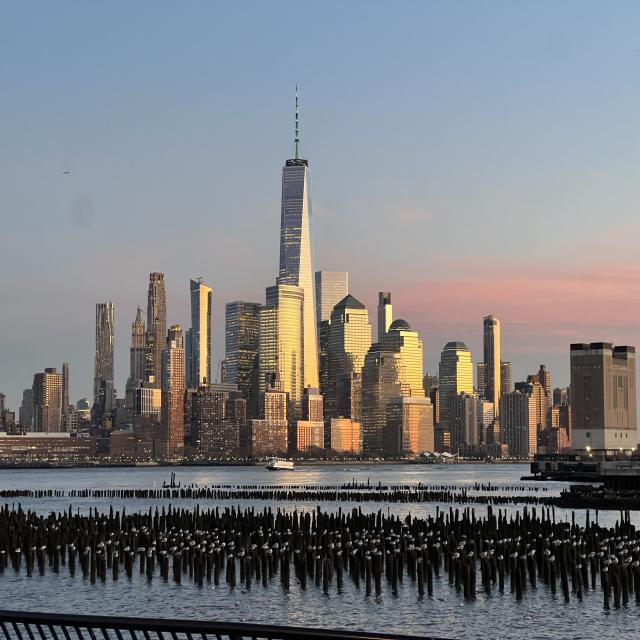WTC: (278, 84, 313, 285)
